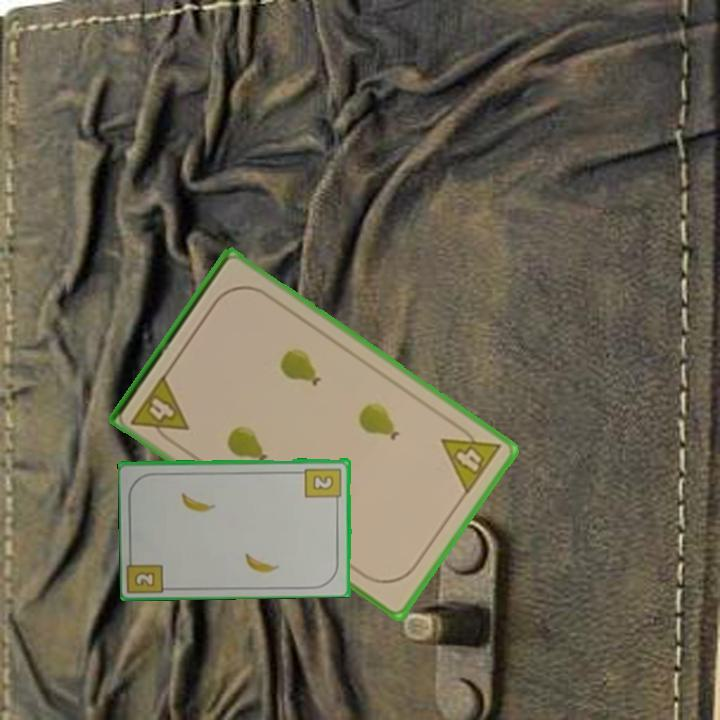2b: (302, 464, 344, 506), (130, 568, 158, 589)
4p: (437, 418, 505, 498), (127, 370, 192, 448)
